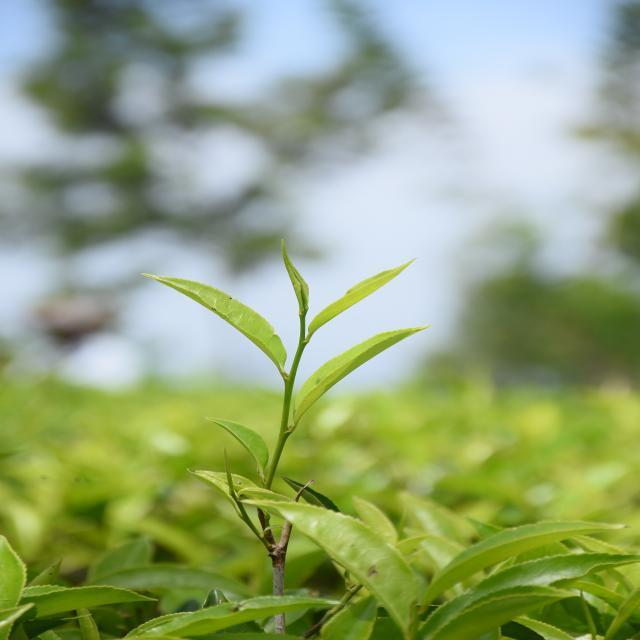Stem: (300, 340, 306, 347)
